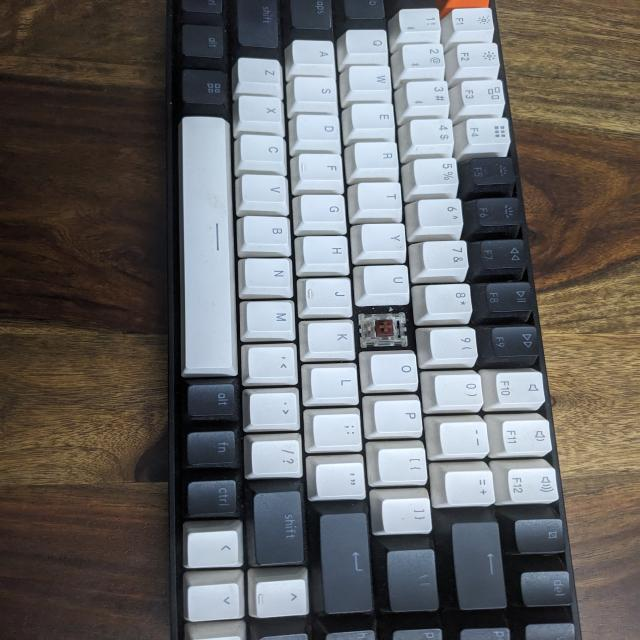C: (364, 310, 410, 348)
